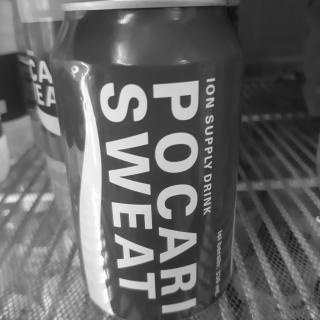alumunium_can: (36, 0, 250, 320)
